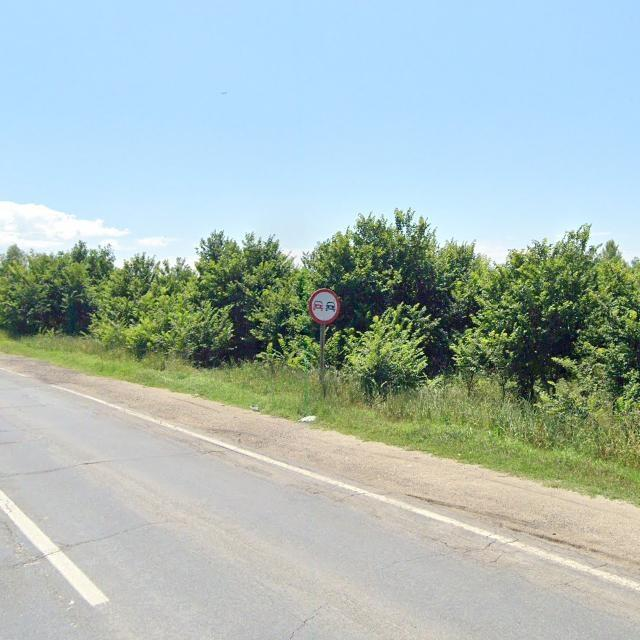forb_overtake: (308, 288, 341, 324)
